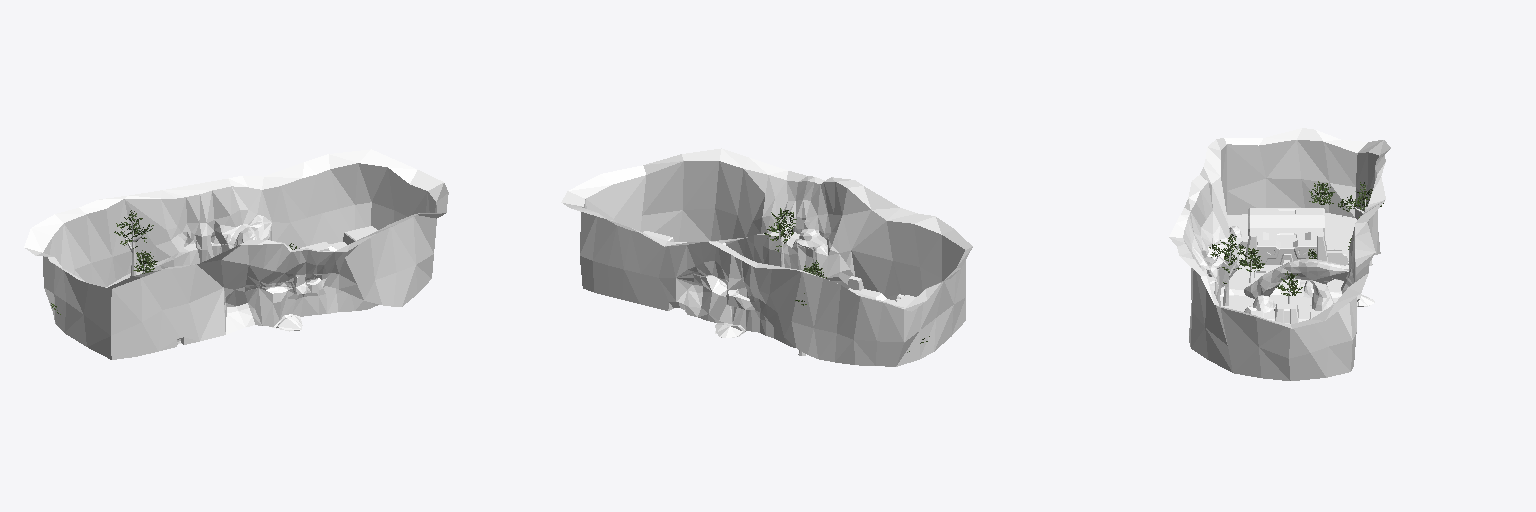
3 views of the same model, side by side, from view 1: azimuth 30°, elevation 25°; view 2: azimuth 150°, elevation 25°; view 3: azimuth 270°, elevation 25° (orthographic).
Parts seen in each view (by area): view 1: beavercreek; view 2: beavercreek; view 3: beavercreek.
Boxes of the visible parts, box(x1,y1,x2,y2) form: beavercreek: box(24, 149, 448, 359); beavercreek: box(561, 148, 972, 366); beavercreek: box(1169, 128, 1390, 380).
Size of the model in its own units: 142 by 37.98 by 70.38.
Materials: 20 (3 with a texture image).